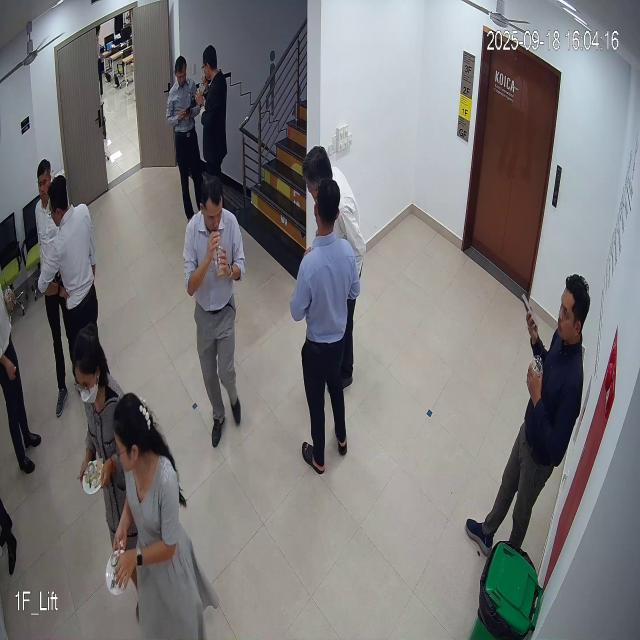face: (554, 266, 592, 346), (198, 170, 225, 236)
